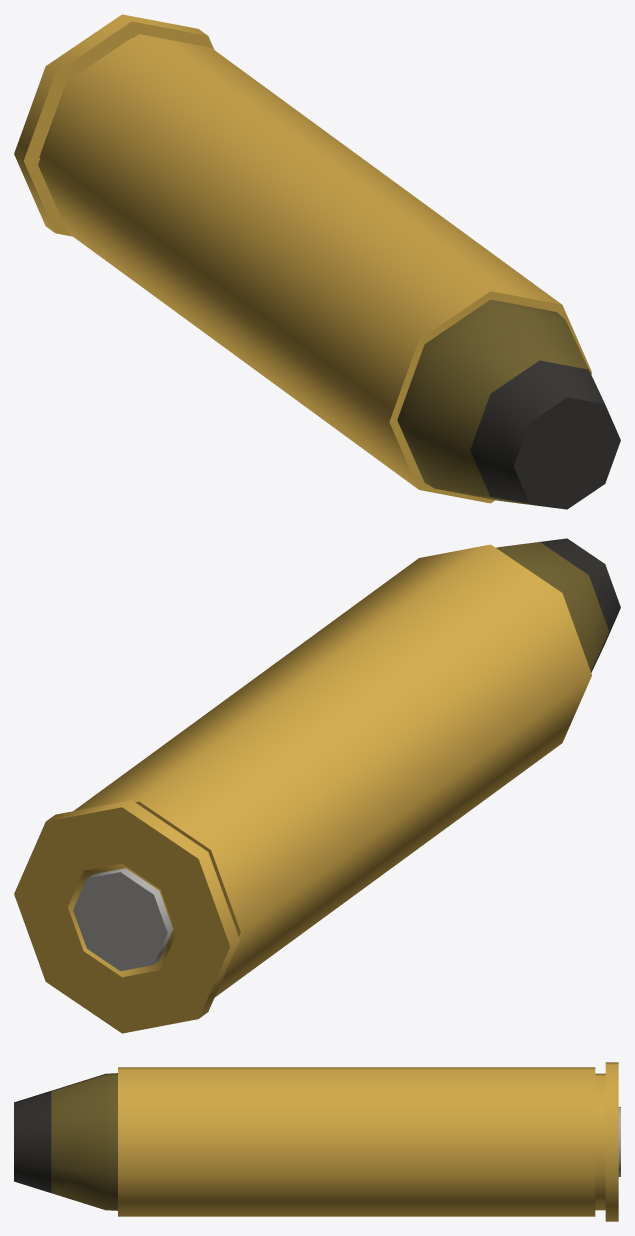
File: Bullet357.FBX
3 renders of one model, top to bottom at view 1: azimuth 30°, elevation 25°; view 2: azimuth 150°, elevation 25°; view 3: azimuth 270°, elevation 25°, orthographic. The views are drawn at different scales.
Visible parts, largest first — view 1: Bullet357; view 2: Bullet357; view 3: Bullet357.
Boxes of the visible parts, bbox=[...] form: Bullet357: bbox=[14, 14, 620, 509]; Bullet357: bbox=[14, 538, 620, 1033]; Bullet357: bbox=[14, 1062, 620, 1221].
Size of the model in its own units: 1.5 by 1.5 by 5.37.
